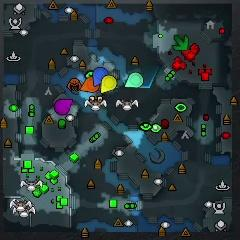p1: (93, 66, 108, 86)
p2: (125, 72, 143, 88)
p3: (54, 98, 73, 115)
p4: (100, 74, 116, 93)
p5: (80, 77, 100, 92)
x4: (173, 34, 189, 51)
